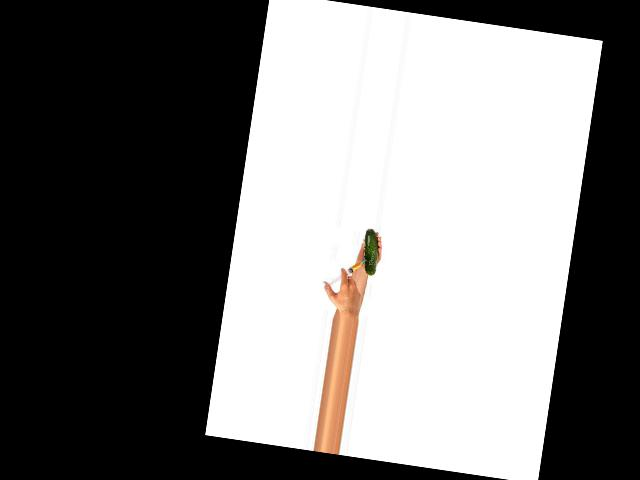cucumber: (360, 227, 381, 275)
